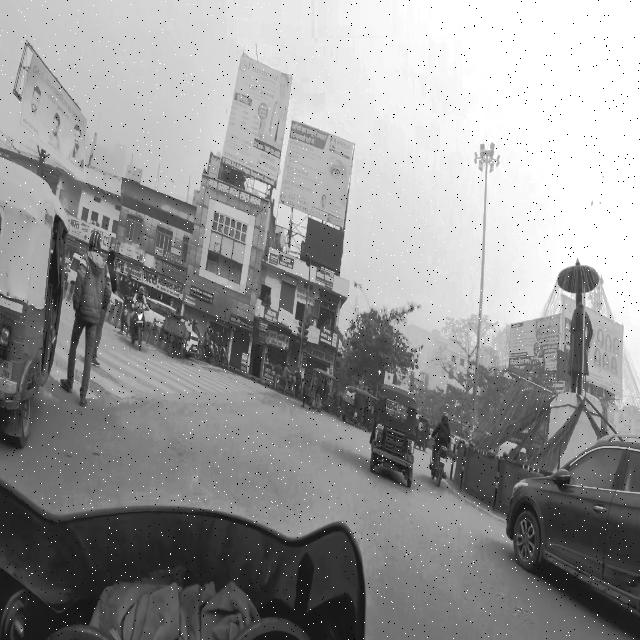Auto-Rickshaw: (0, 150, 71, 458), (367, 371, 421, 506)
Bike: (429, 405, 453, 494), (129, 284, 149, 360)
Car: (505, 430, 640, 584)
